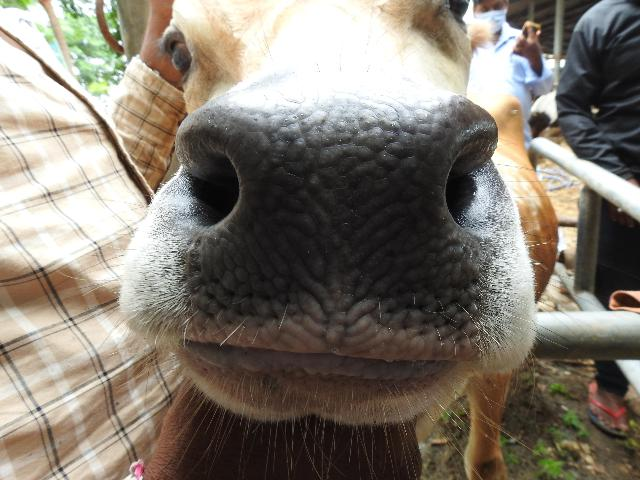Muzzle: (236, 104, 452, 348)
